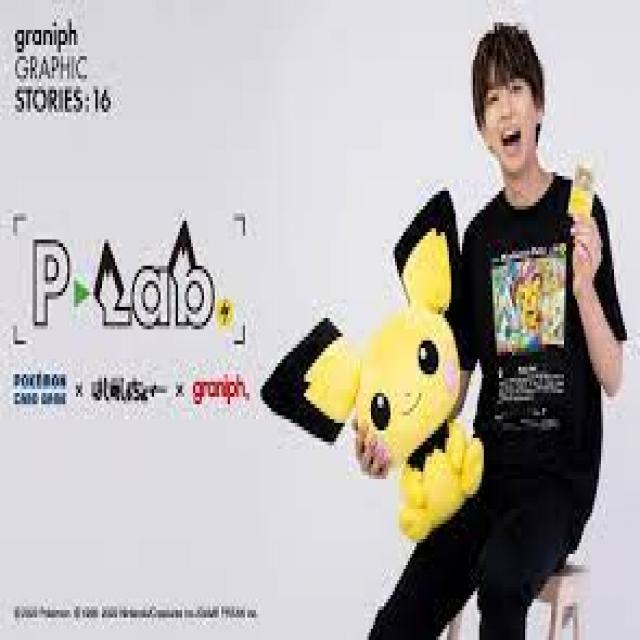pichu: (255, 210, 504, 547)
